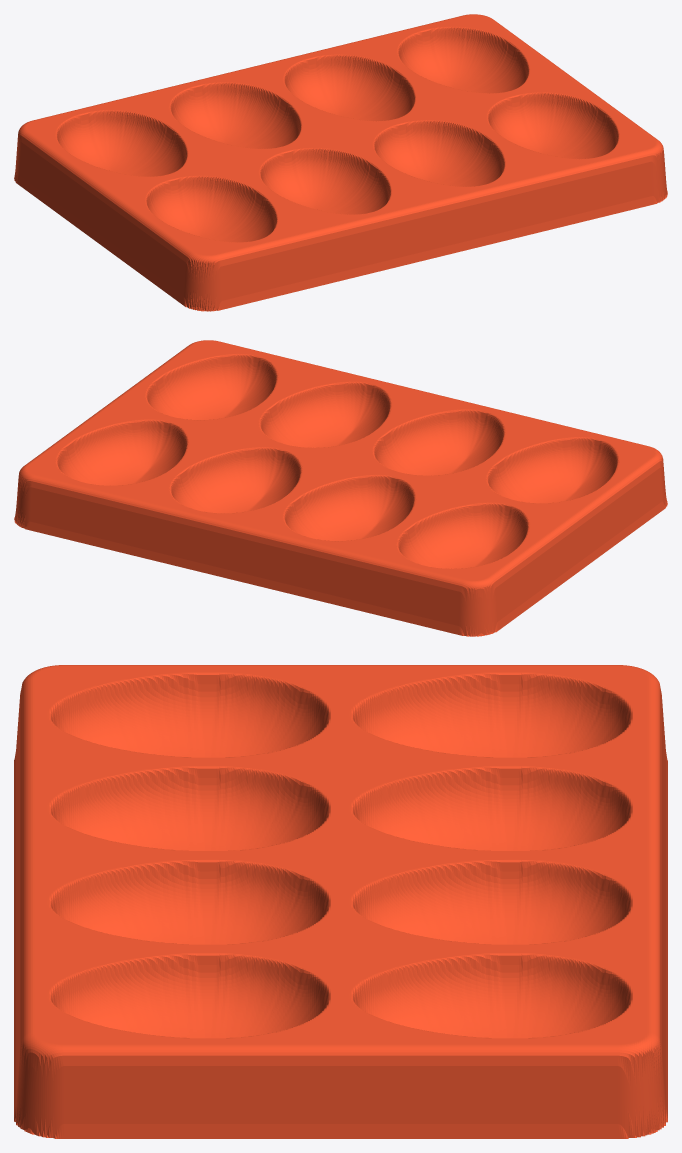
Rendered from mold.glb.
3 views of the same model, one above another, from view 1: azimuth 30°, elevation 25°; view 2: azimuth 150°, elevation 25°; view 3: azimuth 270°, elevation 25° (orthographic). The views are drawn at different scales.
Visible parts, largest first — view 1: geometry_0; view 2: geometry_0; view 3: geometry_0.
Part boxes in pixels (x1,y1,x2,y2): geometry_0: [14, 14, 667, 311]; geometry_0: [14, 340, 667, 636]; geometry_0: [14, 665, 667, 1138].
Size of the model in its own units: 0.1729 by 0.0175 by 0.1209.
